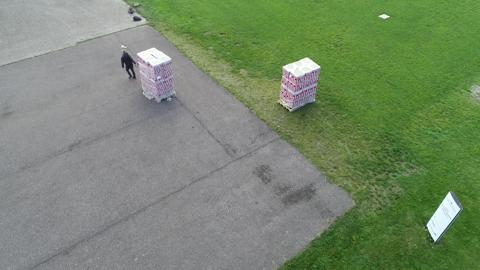RockwoolPallet: (139, 44, 173, 105)
